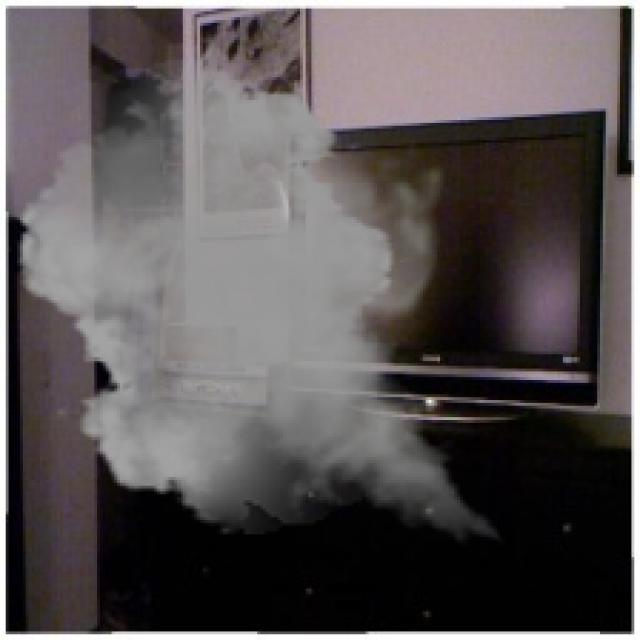smoke: (3, 32, 528, 554)
